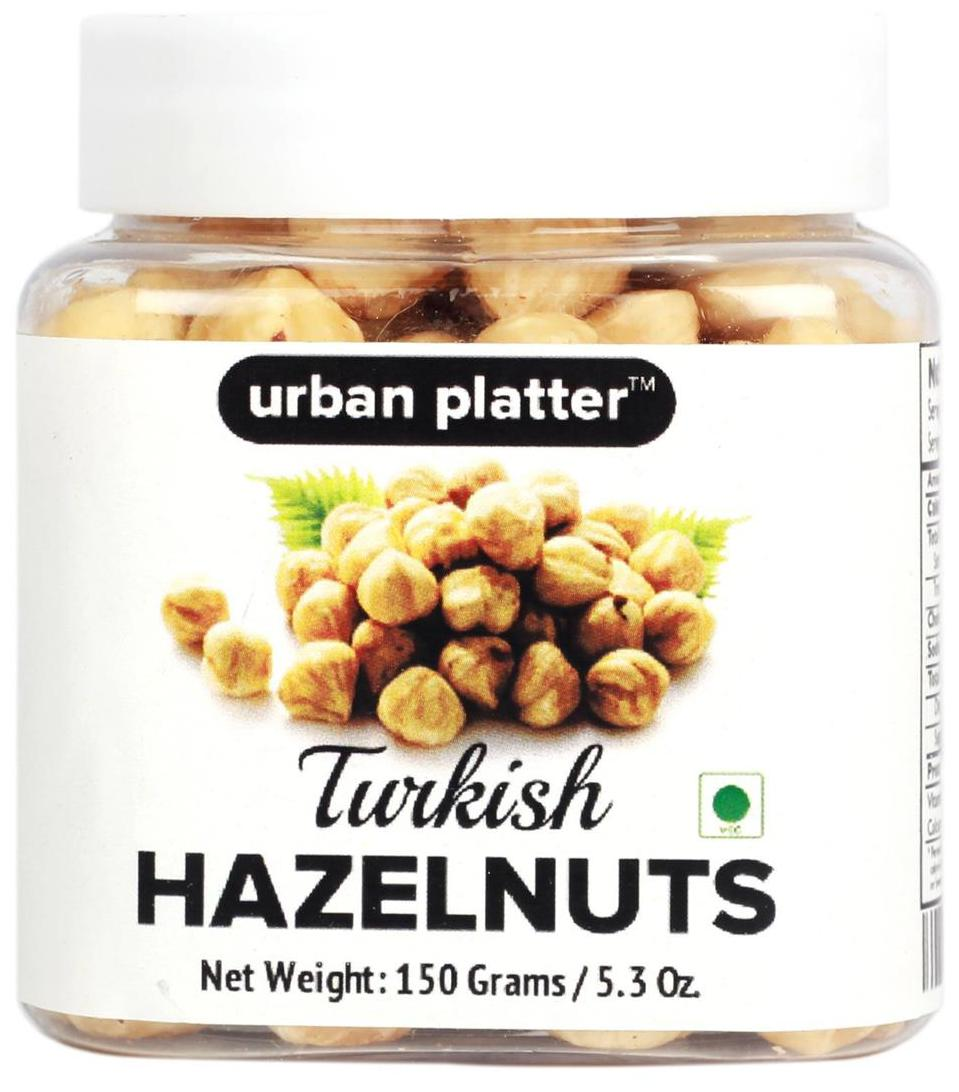JAR: (7, 6, 952, 1072)
